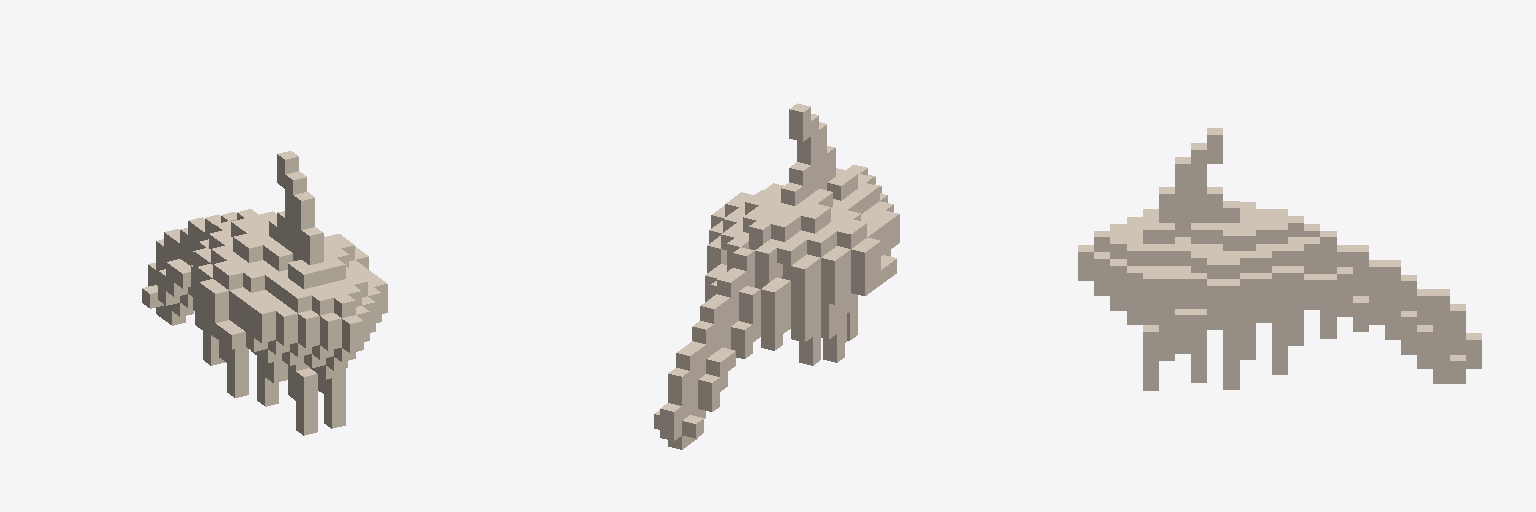
3 renders of one model, left to right at view 1: azimuth 30°, elevation 25°; view 2: azimuth 150°, elevation 25°; view 3: azimuth 270°, elevation 25°, orthographic.
Parts seen in each view (by area): view 1: object 1; view 2: object 1; view 3: object 1.
Part boxes in pixels (x1,y1,x2,y2): object 1: (142, 151, 387, 435); object 1: (654, 103, 899, 449); object 1: (1078, 128, 1481, 390).
Size of the model in its own units: 1.1 by 1.7 by 2.5.
1 materials, 1 textured.